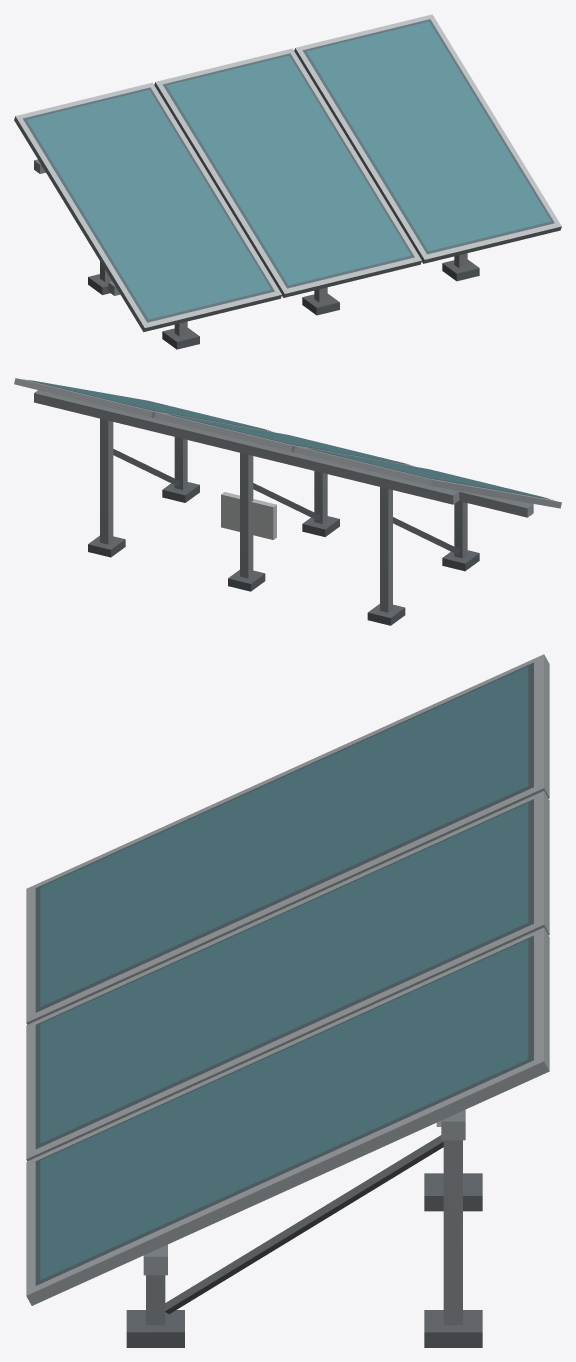
File: solar.lod1.glb
The picture shows the model from 3 angles, top to bottom: view 1: azimuth 30°, elevation 25°; view 2: azimuth 150°, elevation 25°; view 3: azimuth 270°, elevation 25°; orthographic projection. The views are drawn at different scales.
Size of the model in its own units: 4 by 1.56 by 2.16.
